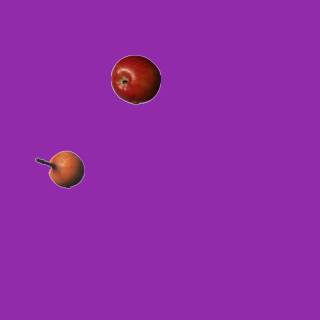Apple Braeburn: (110, 54, 160, 104)
Granadilla: (34, 144, 84, 194)
